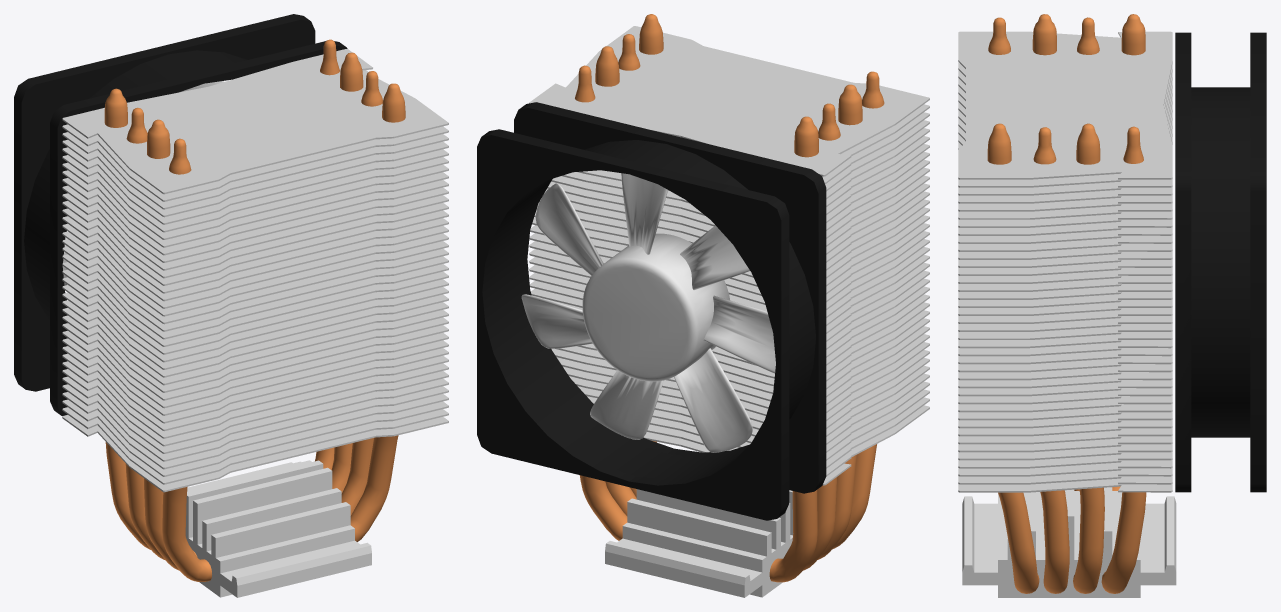
Rendered from CPU cooler.fbx.
3 views of the same model, side by side, from view 1: azimuth 30°, elevation 25°; view 2: azimuth 150°, elevation 25°; view 3: azimuth 270°, elevation 25° (orthographic). The views are drawn at different scales.
Visible parts, largest first — view 1: Plane.005; view 2: Plane.005; view 3: Plane.005.
Part boxes in pixels (box(x1,y1,x2,y2)): Plane.005: box(14, 14, 448, 597); Plane.005: box(477, 14, 929, 597); Plane.005: box(958, 14, 1266, 597).
Bounding box in the file's own units: 51.1 × 78.25 × 44.22.
